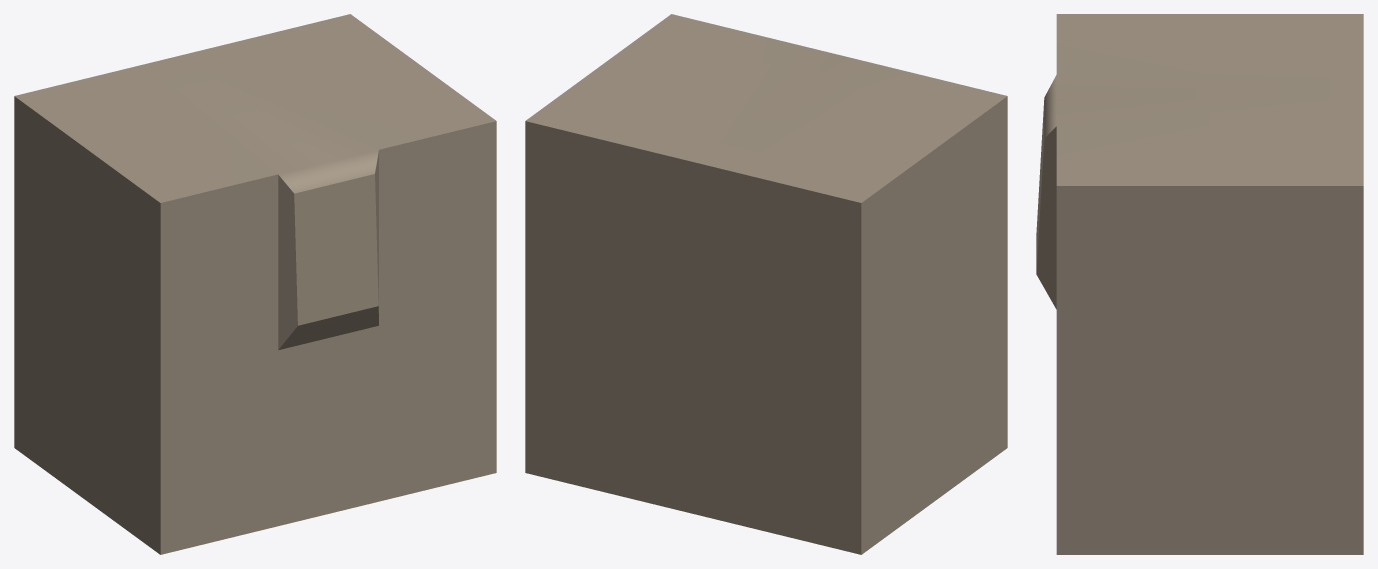
File: smallBox_lp.fbx
3 views of the same model, side by side, from view 1: azimuth 30°, elevation 25°; view 2: azimuth 150°, elevation 25°; view 3: azimuth 270°, elevation 25° (orthographic). The views are drawn at different scales.
Parts seen in each view (by area): view 1: smallbox_lp; view 2: smallbox_lp; view 3: smallbox_lp.
Part boxes in pixels (x1,y1,x2,y2): smallbox_lp: (14, 14, 496, 554); smallbox_lp: (525, 14, 1007, 554); smallbox_lp: (1036, 14, 1363, 554).
Bounding box in the file's own units: 0.3354 × 0.3354 × 0.2694.
